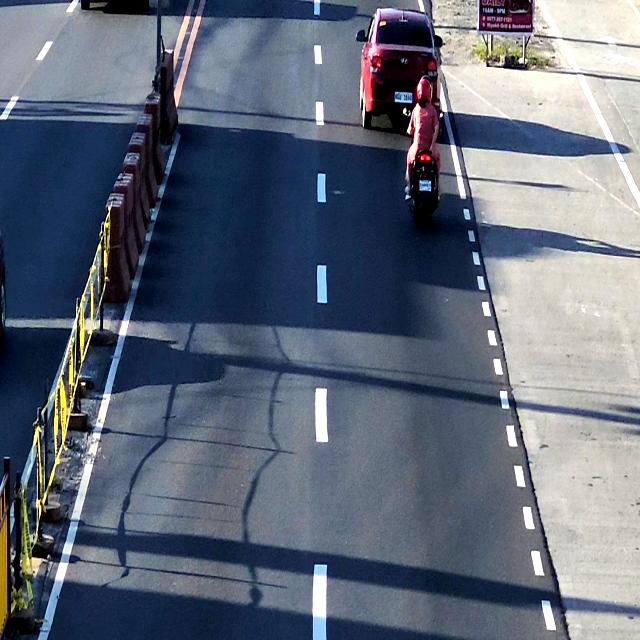Car: (355, 7, 447, 74)
License-Plate: (393, 88, 413, 106), (417, 180, 432, 192)
Motorcycle: (406, 73, 444, 230)
